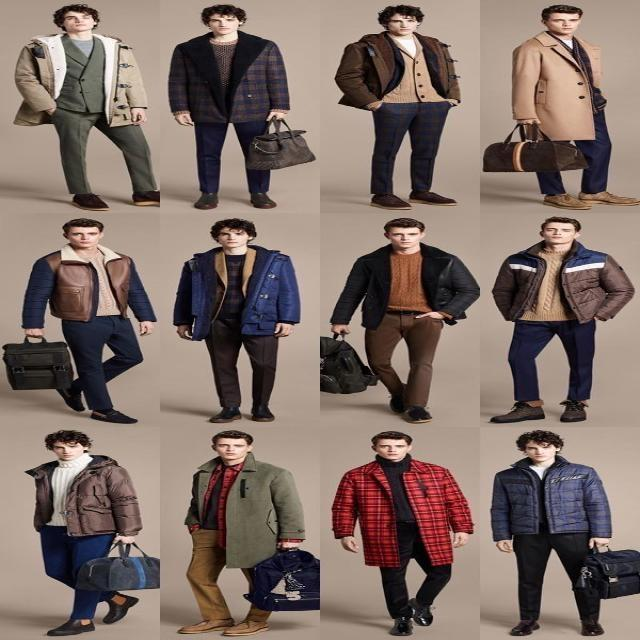person: (328, 217, 481, 423), (12, 3, 162, 210), (488, 216, 634, 423), (330, 431, 474, 636), (20, 217, 157, 423), (177, 430, 306, 636), (510, 4, 639, 209), (172, 218, 301, 423), (334, 4, 461, 210), (488, 429, 612, 636), (168, 3, 290, 210), (24, 430, 142, 636)
